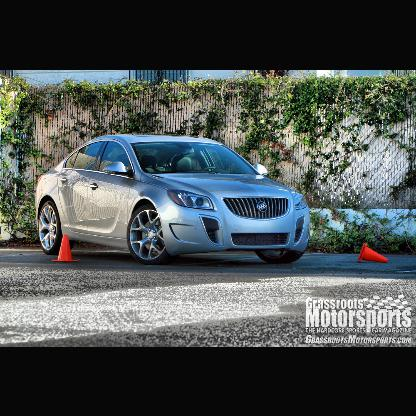Buick Regal GS 2012: (35, 134, 312, 266)
